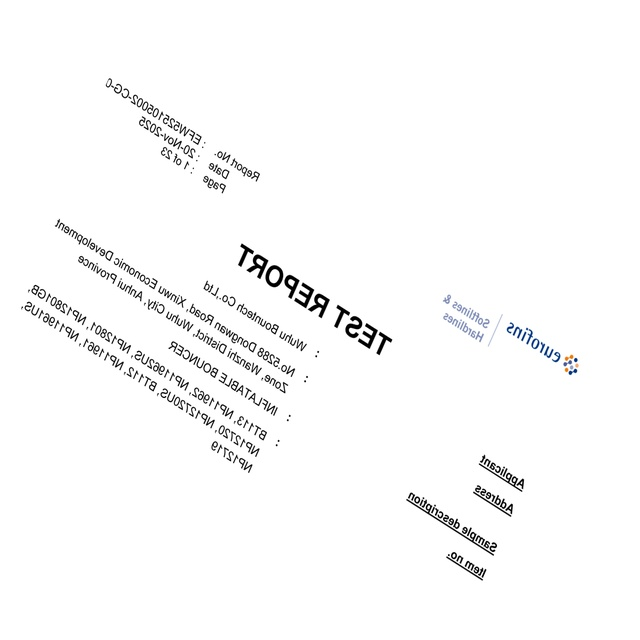eurofins: (504, 316, 583, 385)
